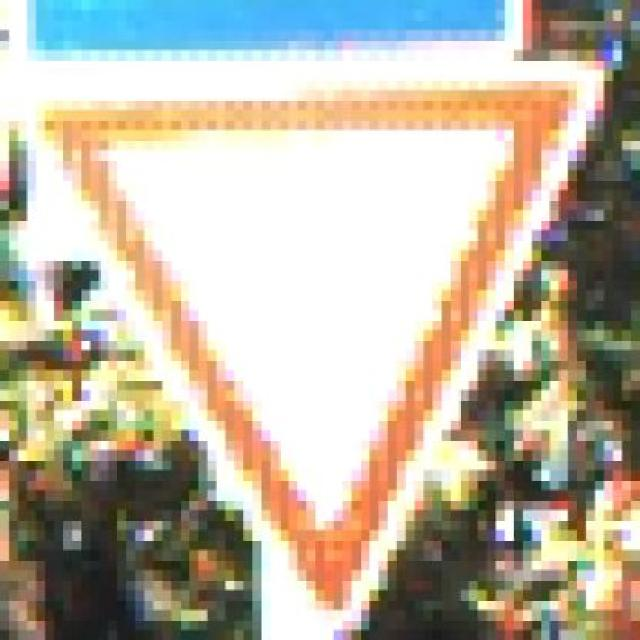Give Way: (26, 70, 632, 638)
